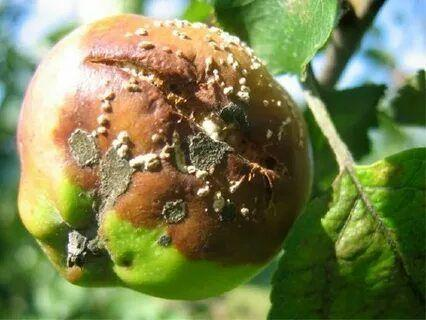Apple: (15, 11, 315, 299)
